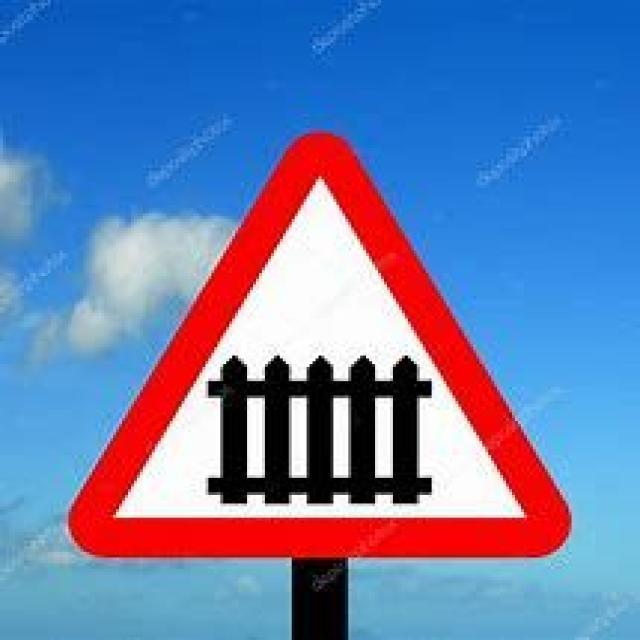guarded level crossing: (62, 120, 580, 570)
